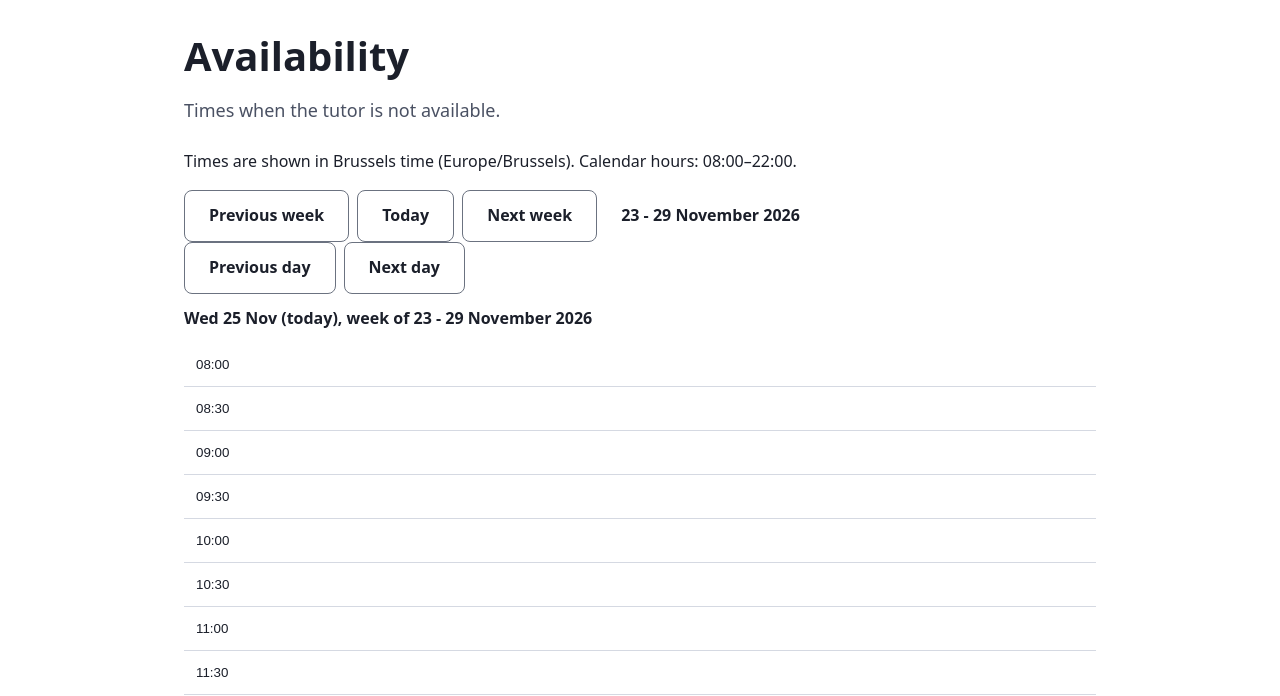
Test: availability on mobile (one-day list) › selects a free hour with one tap and opens the confirmation without saving
Click the button named ", 09:00": (213, 453) x1=184 y1=431 x2=1096 y2=475
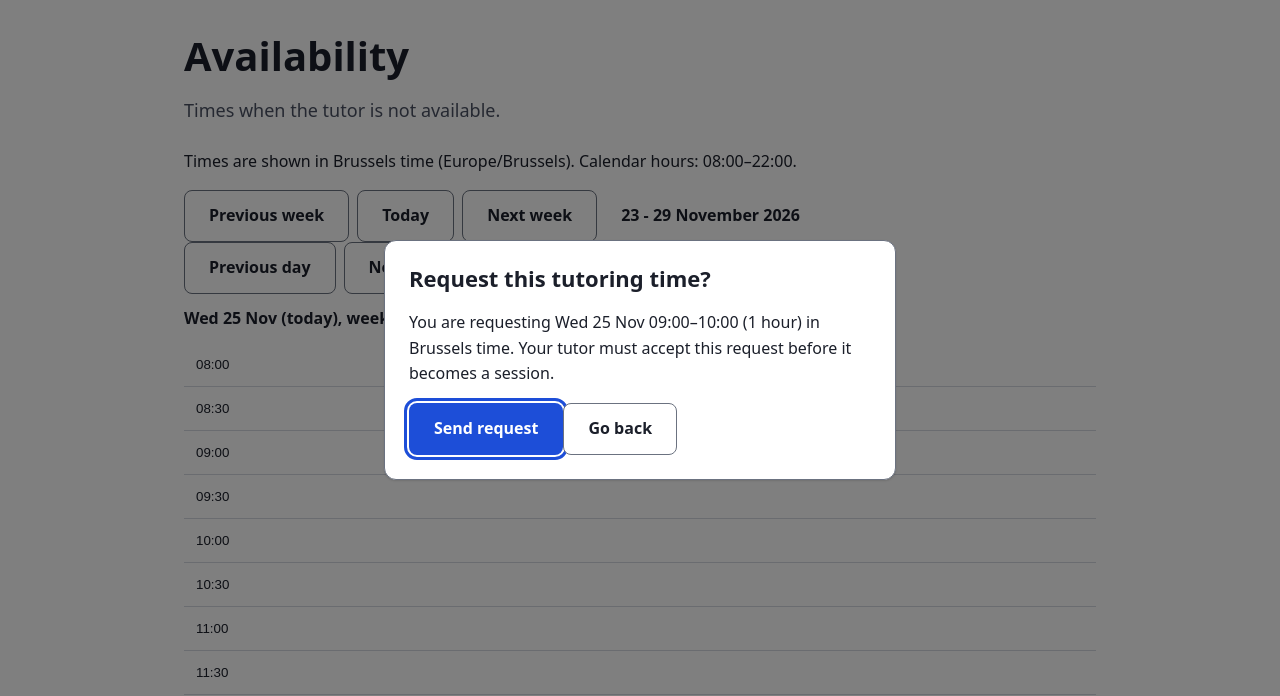
Expected: the dialog "Request this tutoring time?" shows "09:00", x1=649 y1=311 x2=690 y2=333
Expected: the dialog "Request this tutoring time?" shows "10:00", x1=698 y1=311 x2=739 y2=333
Expected: the dialog "Request this tutoring time?" shows "1 hour", x1=748 y1=311 x2=797 y2=333
